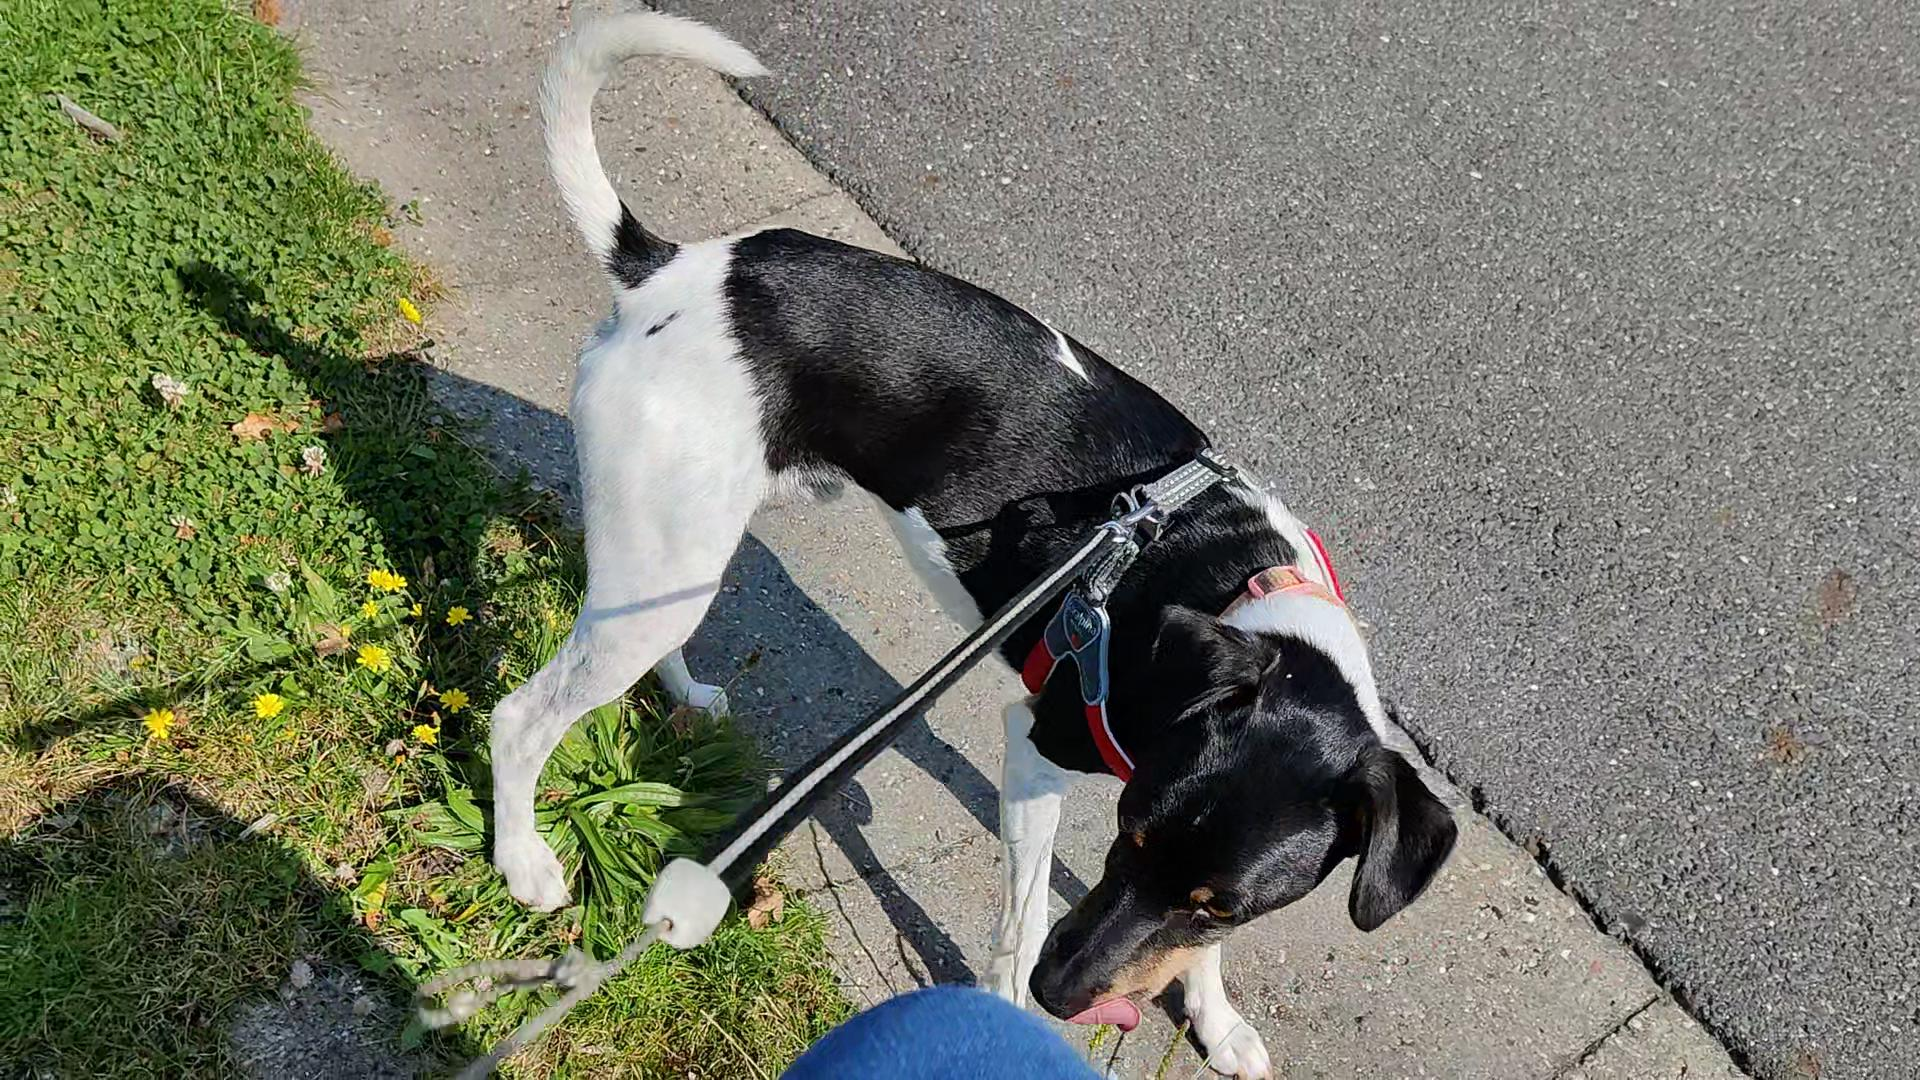Dog: (485, 0, 1466, 1080)
